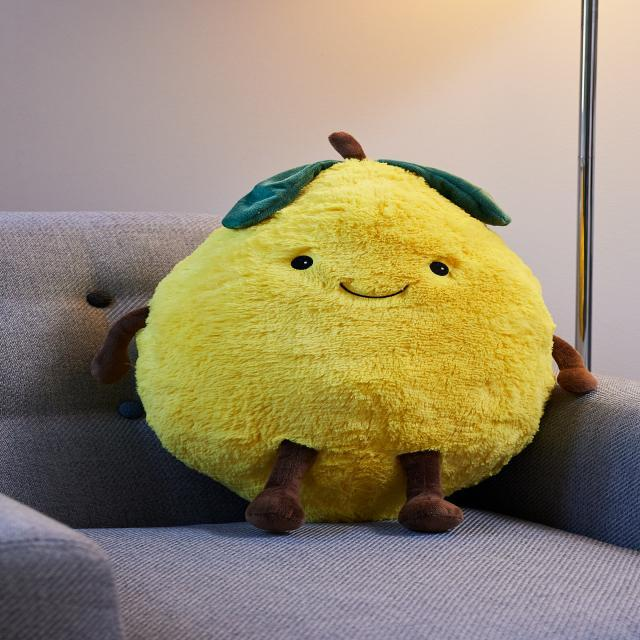soft-toy: (93, 134, 599, 534)
